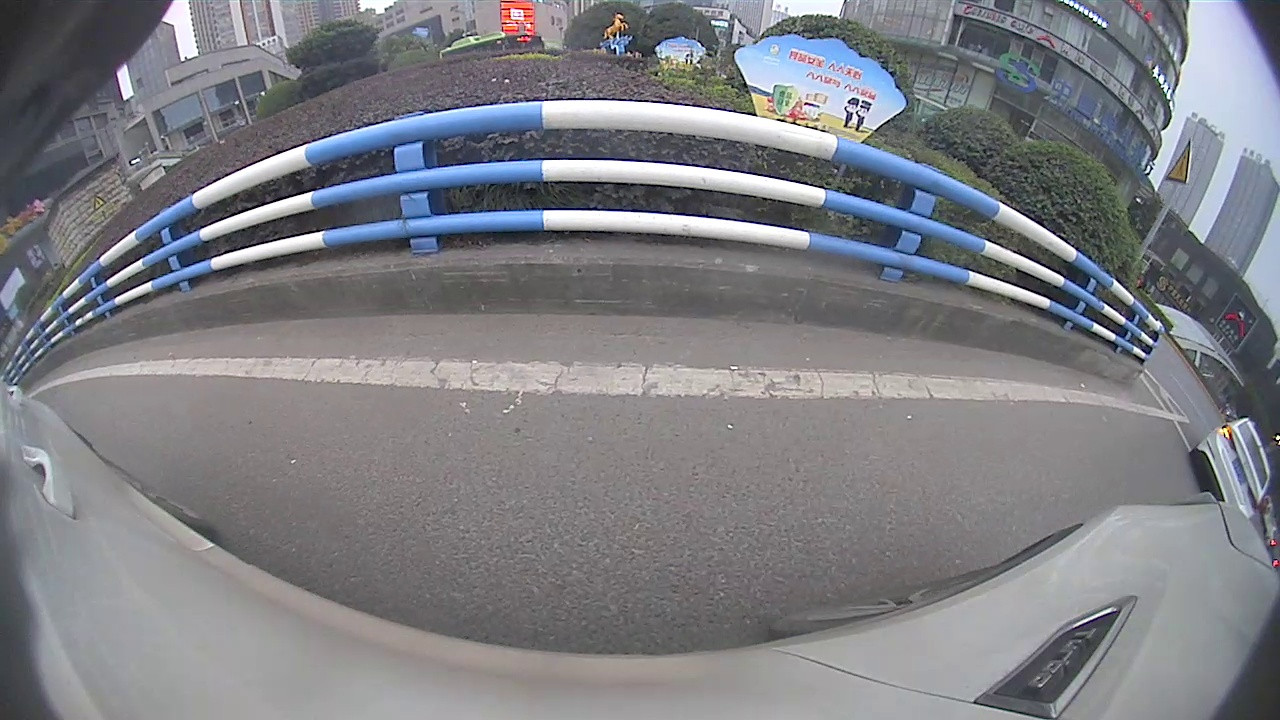bus: (437, 29, 549, 64)
car: (1188, 416, 1273, 523)
